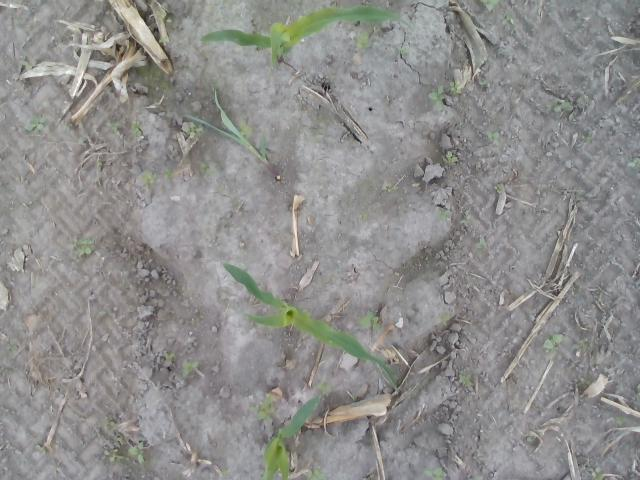Maize: (222, 260, 400, 392), (197, 0, 401, 70), (183, 86, 270, 164), (262, 395, 322, 480)
Weeds: (101, 434, 145, 466), (246, 394, 278, 423), (354, 310, 382, 330), (71, 238, 95, 257), (544, 98, 571, 114), (544, 334, 568, 352), (431, 84, 446, 112), (302, 464, 328, 480), (31, 116, 49, 138), (479, 129, 502, 146), (180, 121, 202, 137), (424, 464, 446, 480), (238, 119, 256, 138), (182, 360, 200, 378), (138, 169, 157, 186), (198, 160, 218, 176), (458, 368, 475, 386), (478, 0, 501, 13), (441, 149, 458, 166), (447, 79, 464, 96), (316, 382, 332, 398), (432, 312, 448, 328), (106, 121, 122, 136), (130, 120, 144, 136), (588, 466, 604, 480), (356, 30, 368, 48), (574, 376, 592, 388), (382, 182, 398, 194), (163, 350, 176, 364), (103, 416, 117, 428), (576, 340, 590, 352), (162, 166, 175, 178), (0, 366, 13, 378), (475, 238, 488, 250), (436, 207, 448, 219), (494, 182, 506, 194), (626, 158, 640, 168), (633, 382, 640, 401), (614, 414, 624, 427), (502, 14, 514, 24), (6, 340, 16, 352), (399, 47, 409, 57), (22, 61, 32, 70), (478, 80, 488, 88), (63, 121, 73, 128), (220, 468, 228, 476), (360, 212, 368, 220), (273, 467, 280, 476), (160, 8, 167, 16)
